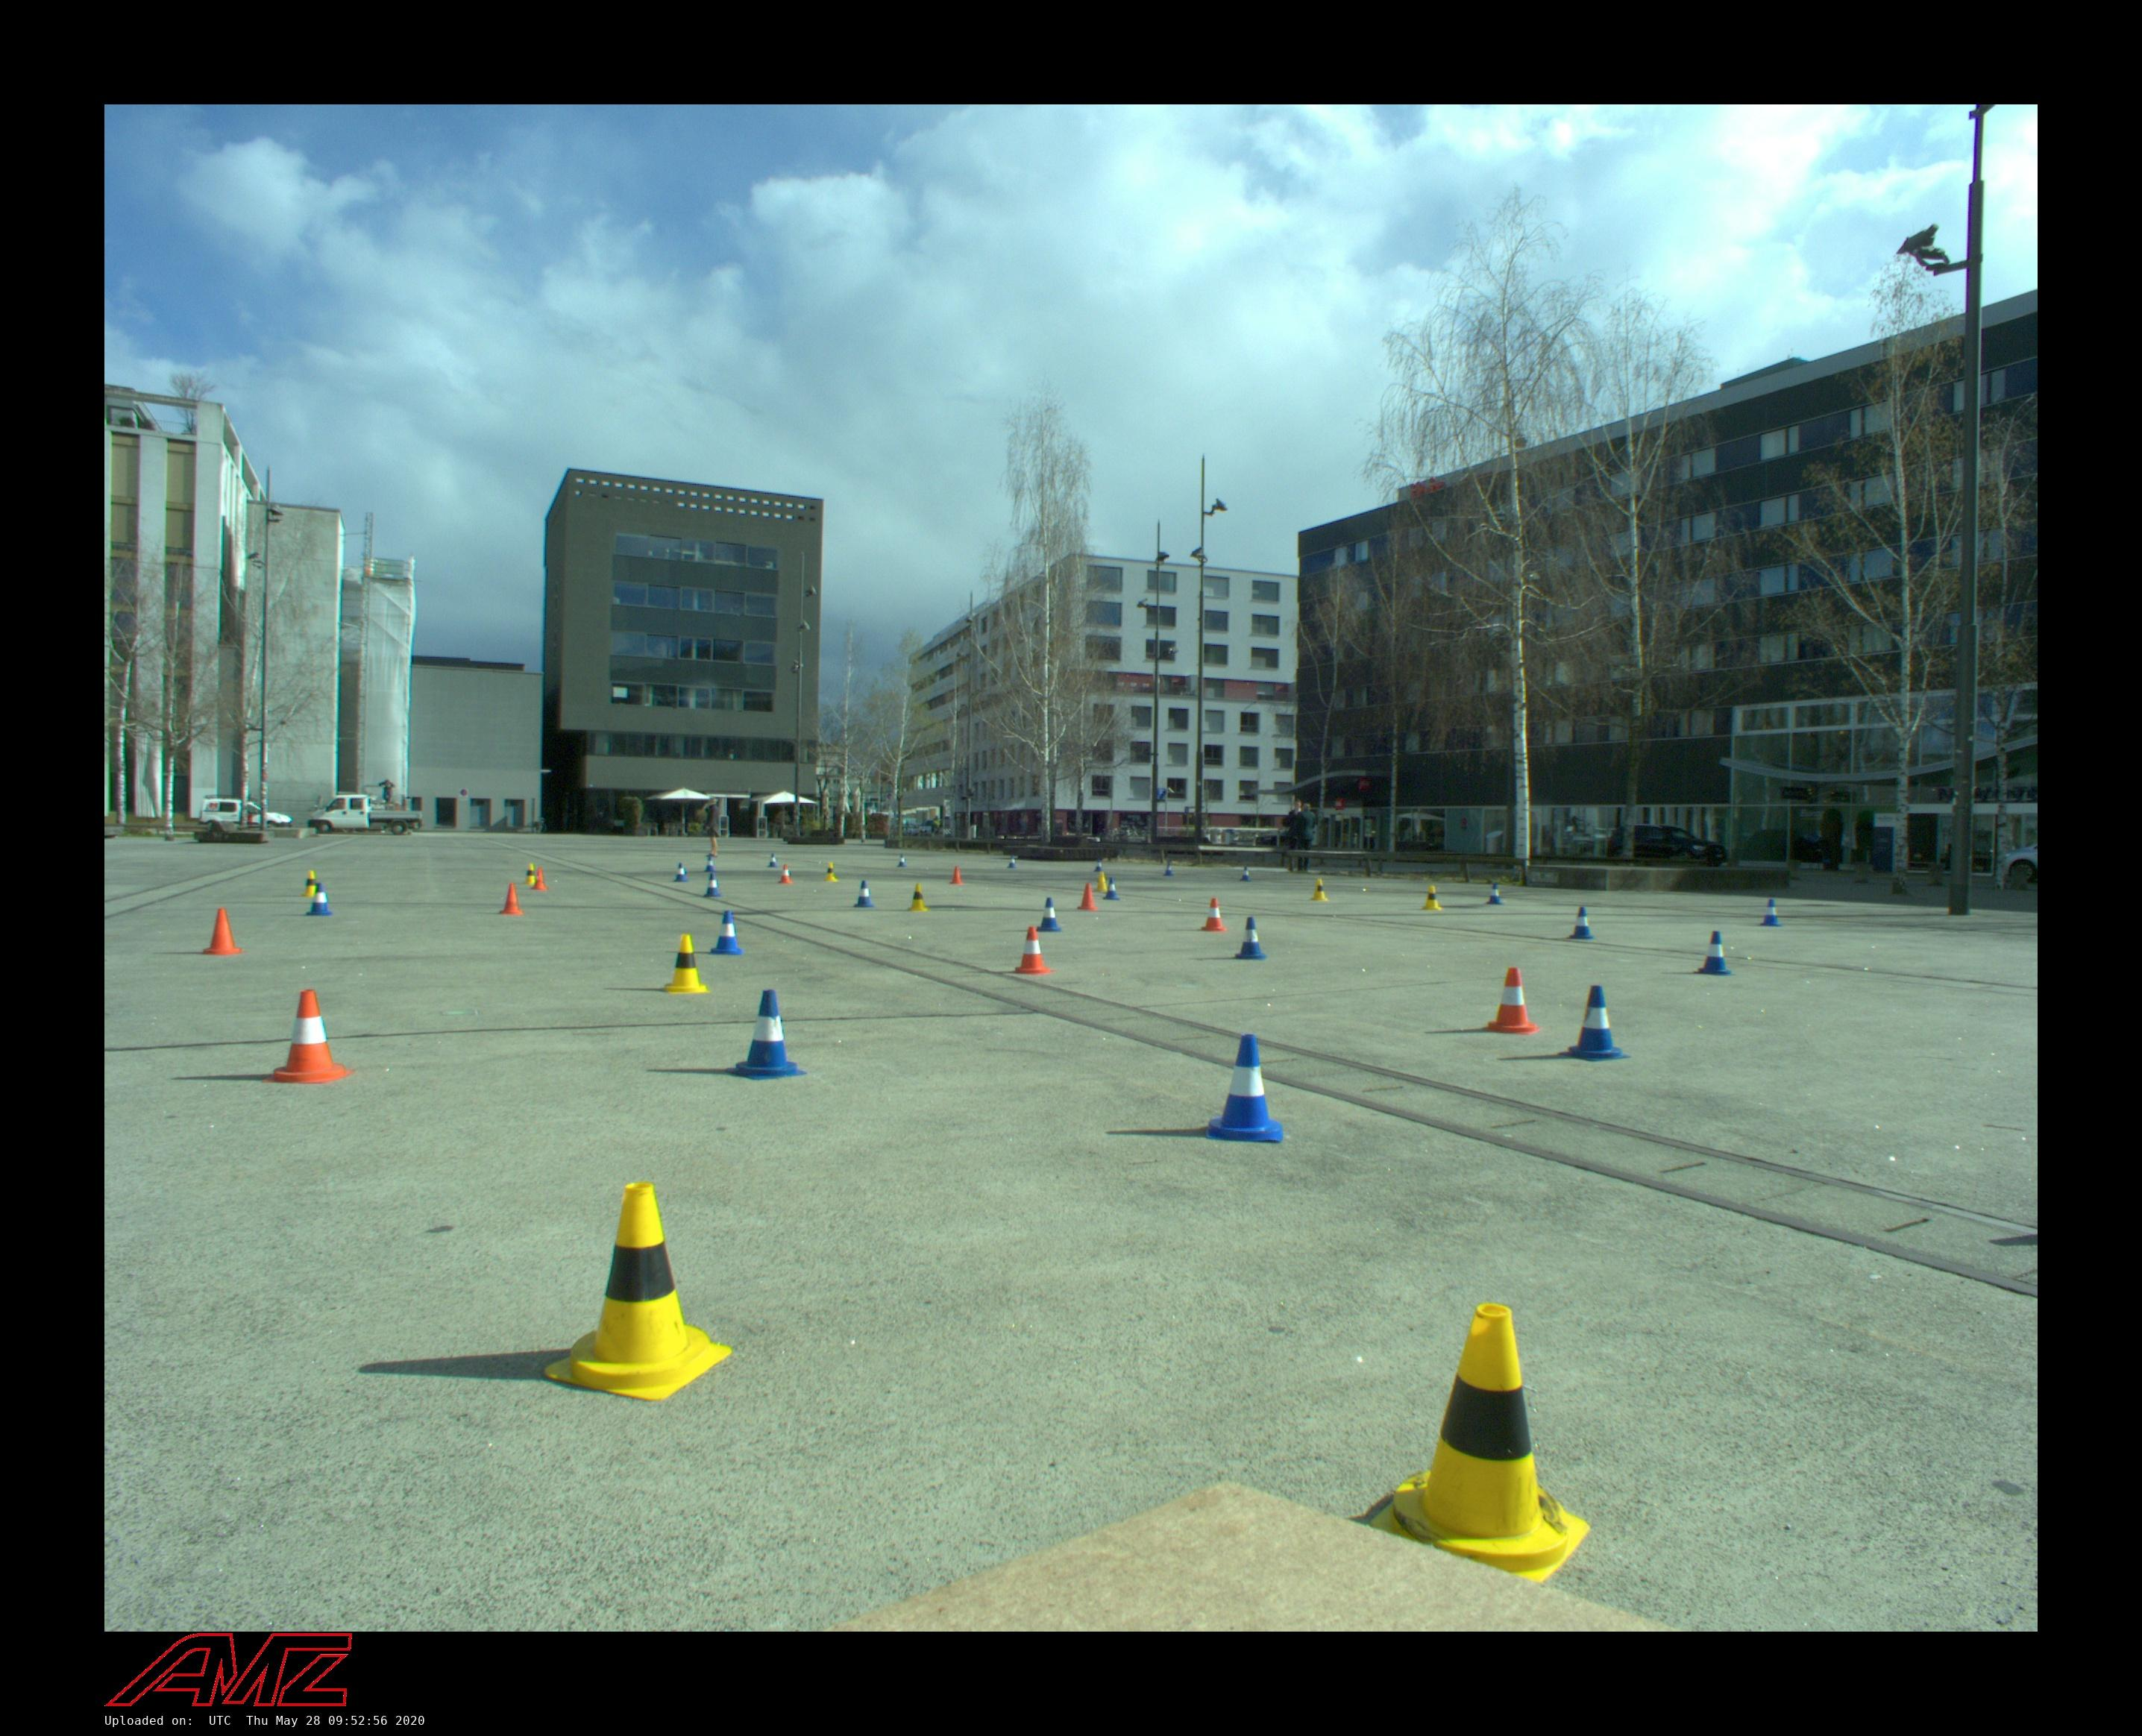blue_cone: (1205, 1035, 1283, 1141), (725, 990, 806, 1081), (1561, 985, 1630, 1061), (1694, 930, 1735, 976), (1233, 916, 1269, 960), (710, 911, 744, 955), (303, 882, 333, 916), (1568, 905, 1595, 939), (1036, 896, 1061, 932), (1759, 900, 1782, 926), (854, 880, 875, 907), (703, 873, 723, 896), (1486, 882, 1504, 905), (1104, 877, 1120, 900), (675, 863, 689, 882), (703, 856, 718, 873), (767, 854, 780, 868), (1240, 866, 1251, 882), (896, 854, 907, 868), (1162, 863, 1173, 877), (1008, 856, 1017, 868), (1095, 859, 1104, 872)
orange_cone: (262, 990, 353, 1084), (1483, 967, 1541, 1036), (200, 909, 244, 955), (1012, 926, 1054, 974), (1199, 898, 1228, 932), (500, 882, 524, 916), (1077, 882, 1098, 911), (532, 868, 549, 891), (778, 864, 794, 884), (950, 866, 964, 884)
yellow_cone: (1366, 1302, 1589, 1584), (542, 1182, 733, 1401), (661, 934, 709, 994), (907, 882, 930, 911), (301, 870, 321, 898), (1309, 877, 1329, 902), (1423, 886, 1442, 911), (822, 861, 840, 882), (1095, 872, 1111, 891), (524, 863, 539, 884)
